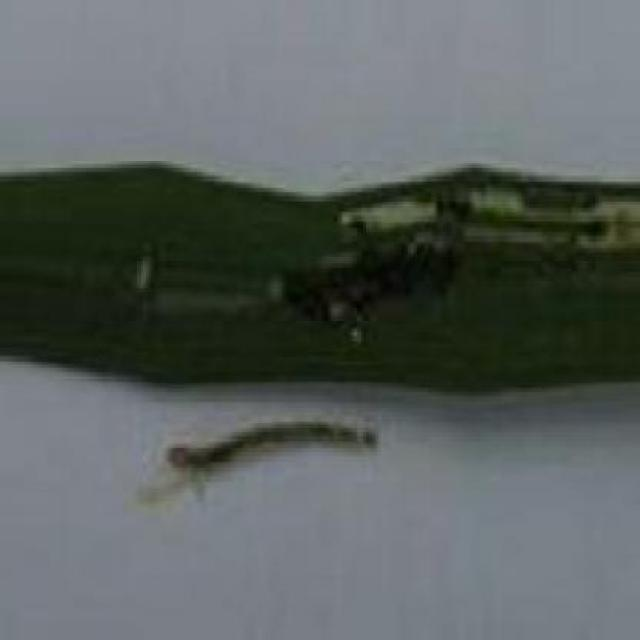leaf-folder: (151, 381, 440, 517)
